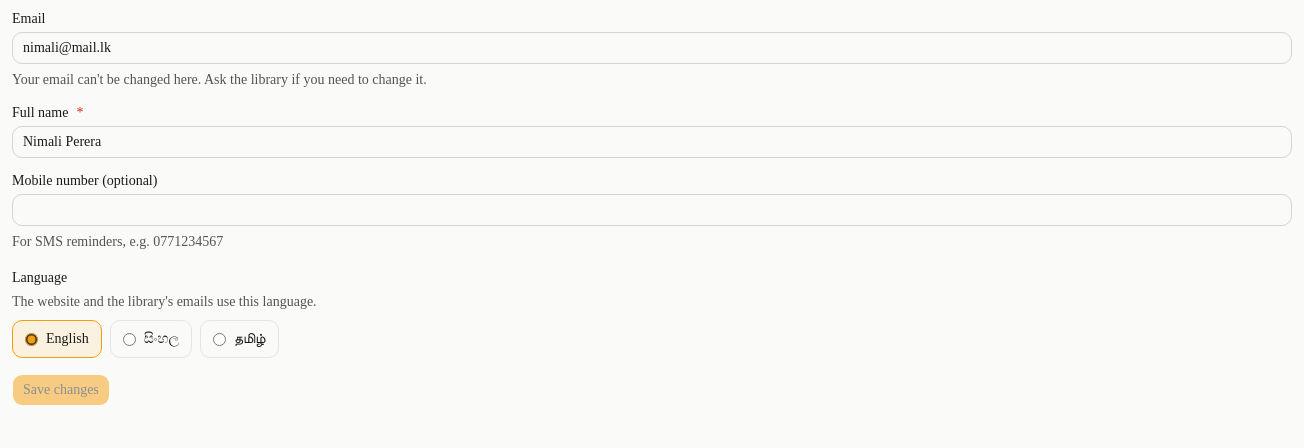
Test: ProfileForm › checks the phone number before sending
In the field labelled "Mobile number (optional)": (652, 210) [12, 194, 1292, 226], type "12345"
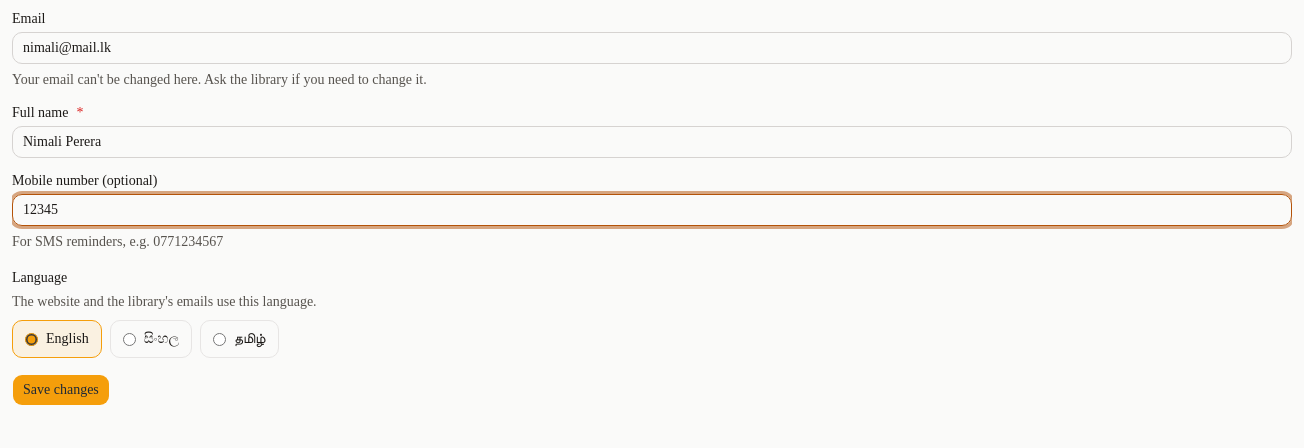
Click the button "Save changes": (61, 390) [12, 374, 110, 406]
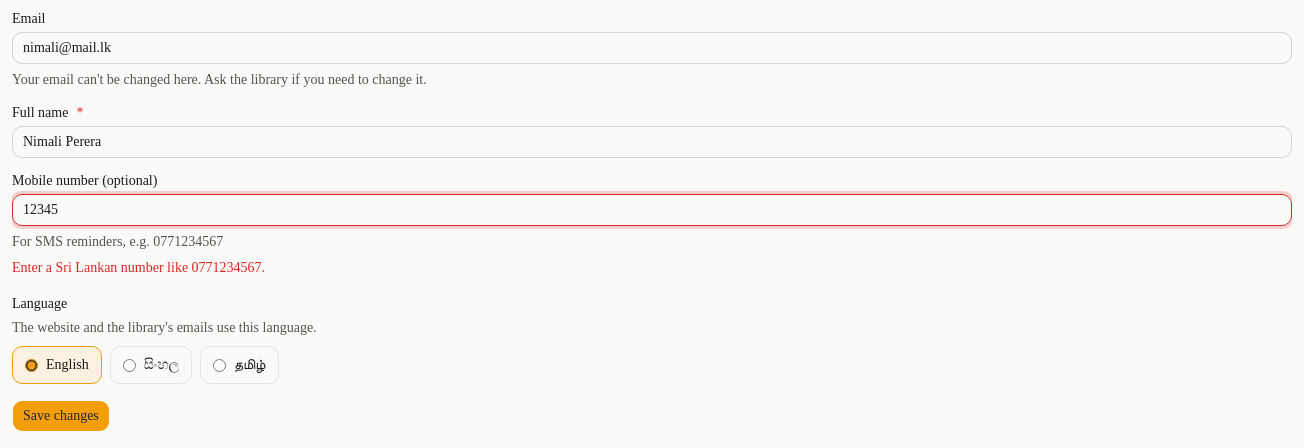
Check: the text "Enter a Sri Lankan number like 0771234567." is shown, box [12, 260, 265, 275]
